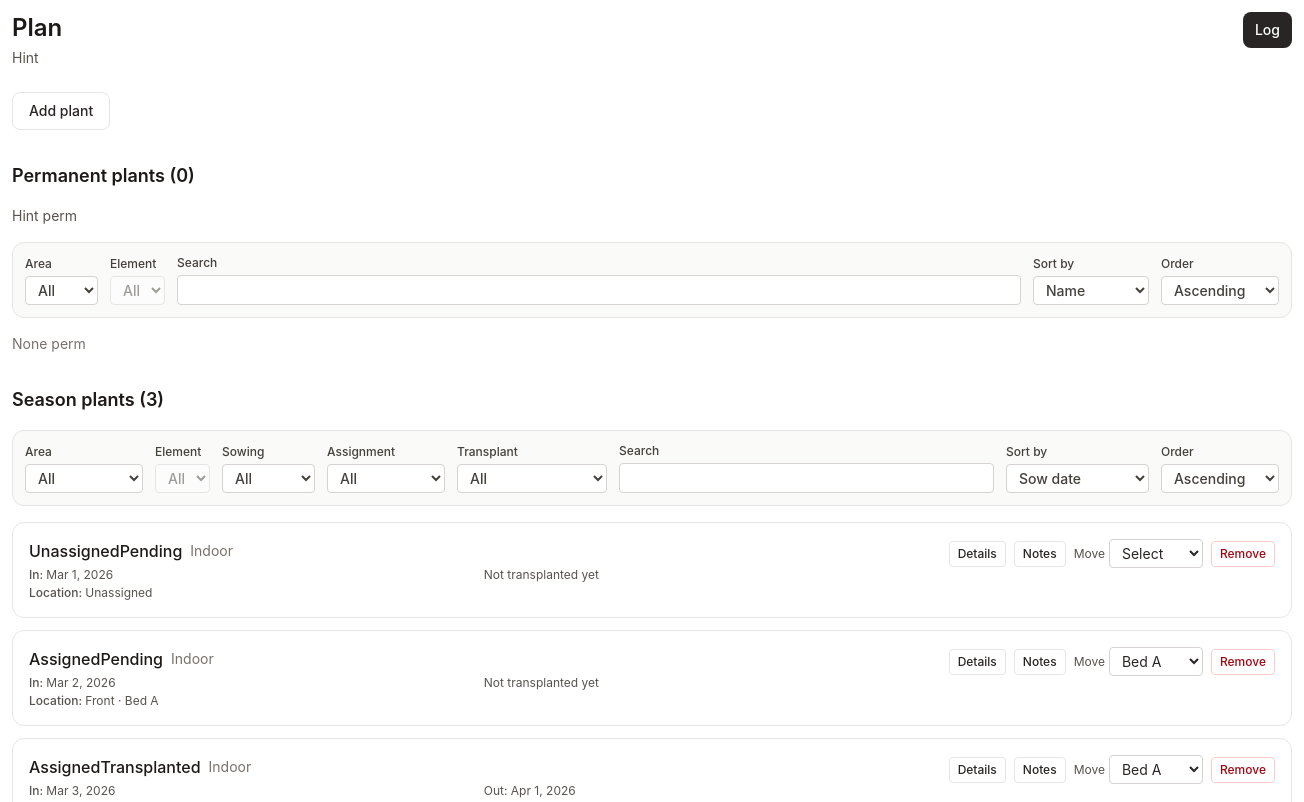
PlantingPlanPage › filters indoor list by assignment and can include transplanted indoor sowings
Expected: the element with test id "season-plant-inventory" shows "Season plants (3)", [12,389,164,410]
Select "Not transplanted" in the dropdown with test id "season-filter-transplant" at (532, 478), box [457,464,607,493]
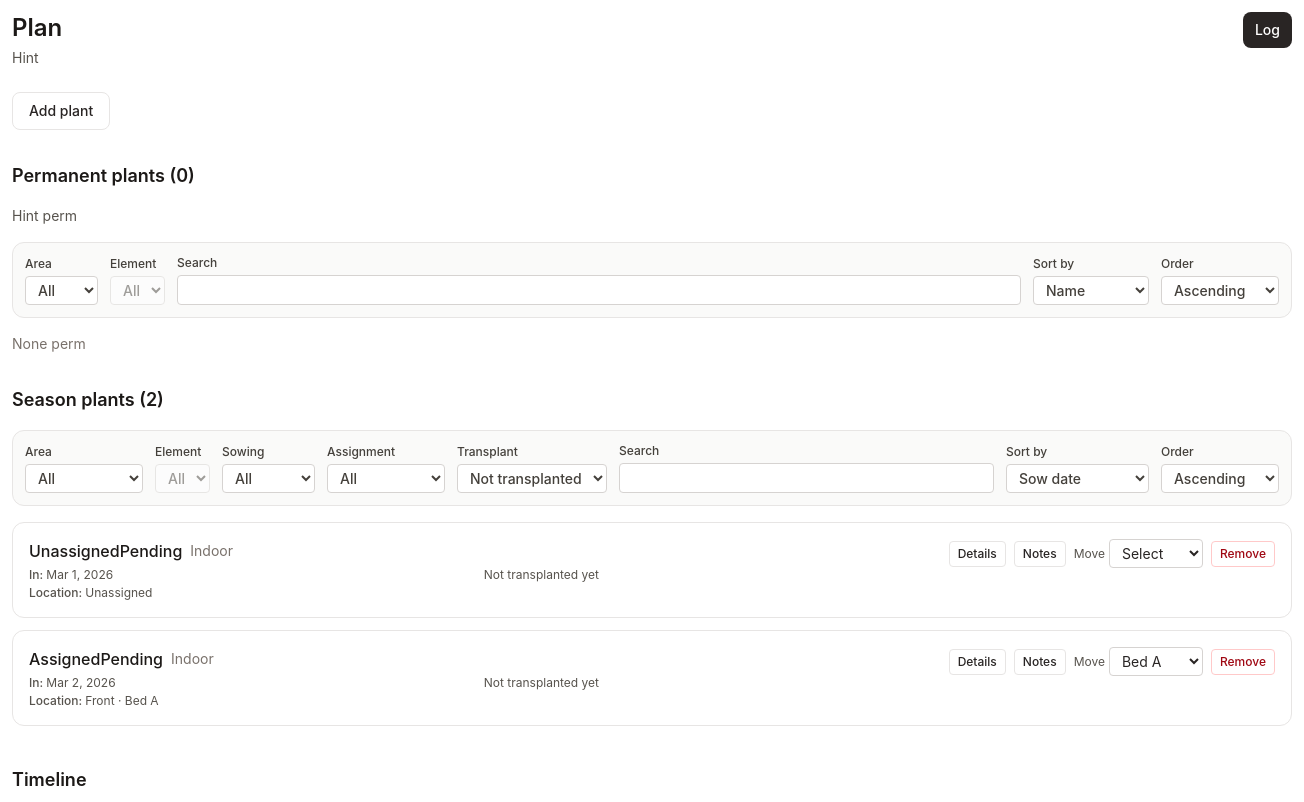
Expected: the element with test id "season-plant-inventory" shows "UnassignedPending", [29,539,182,563]
Expected: the element with test id "season-plant-inventory" shows "Season plants (2)", [12,389,164,410]
Expected: the element with test id "season-plant-inventory" no longer shows "AssignedTransplanted", [12,386,1292,726]
Select "Unassigned" in the dropdown with test id "season-filter-assignment" at (386, 478), box [327,464,445,493]
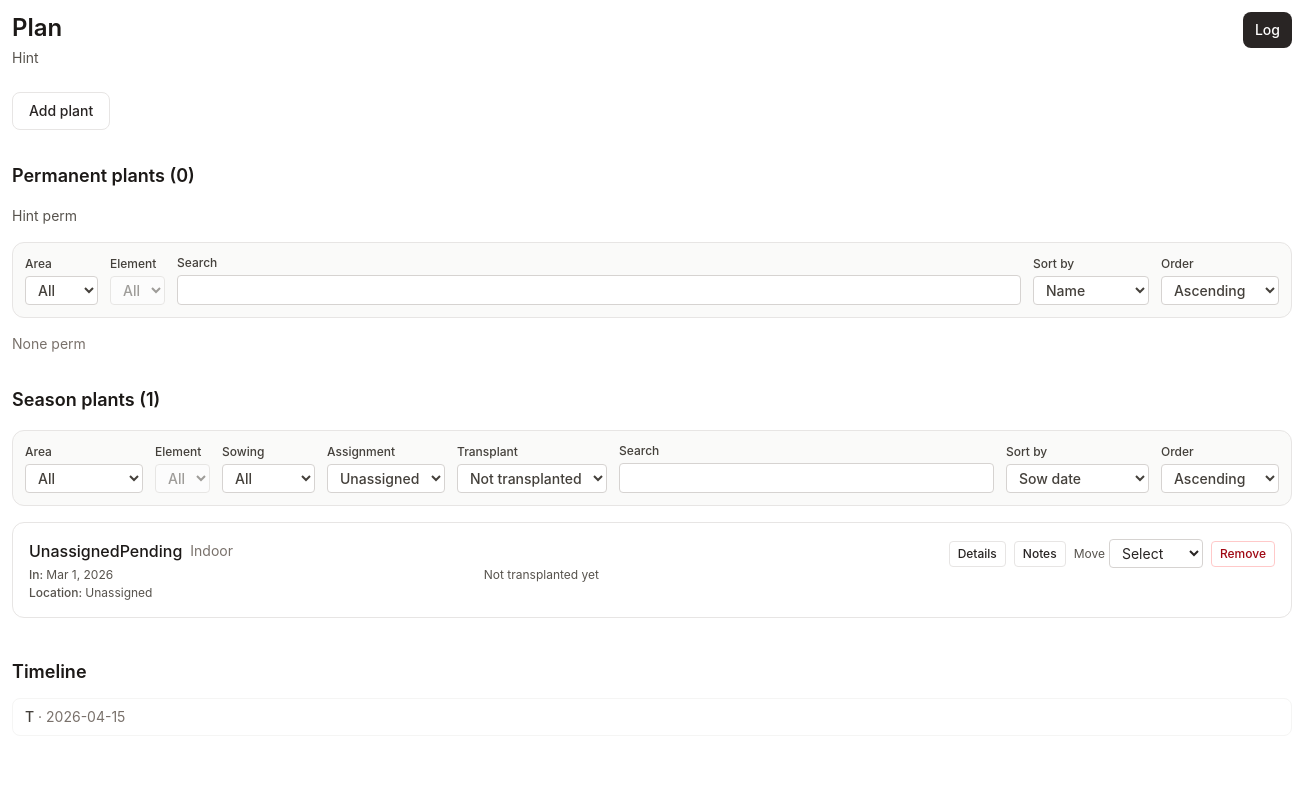
Expected: the element with test id "season-plant-inventory" shows "UnassignedPending", [29,539,182,563]
Expected: the element with test id "season-plant-inventory" shows "Season plants (1)", [12,389,160,410]
Select "Assigned" in the dropdown with test id "season-filter-assignment" at (386, 478), box [327,464,445,493]
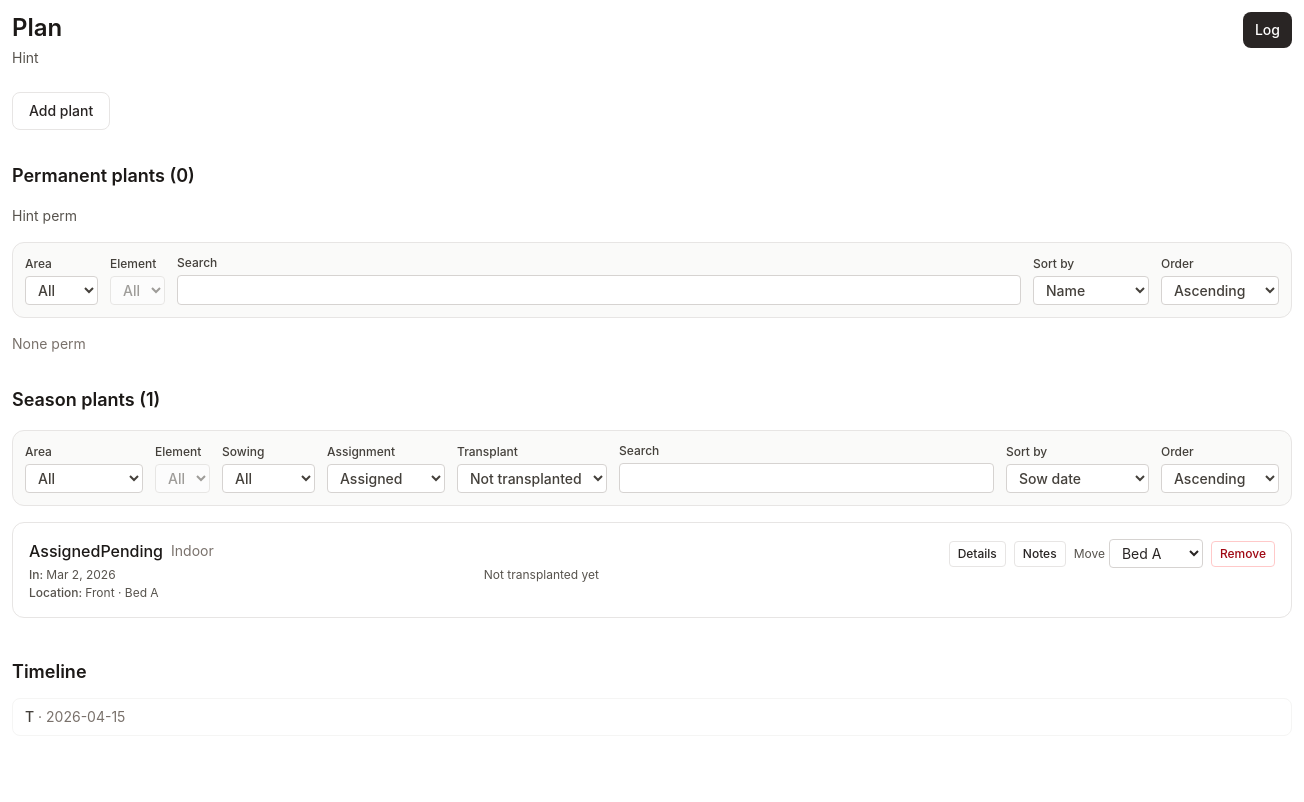
Select "All" in the dropdown with test id "season-filter-transplant" at (532, 478), box [457,464,607,493]
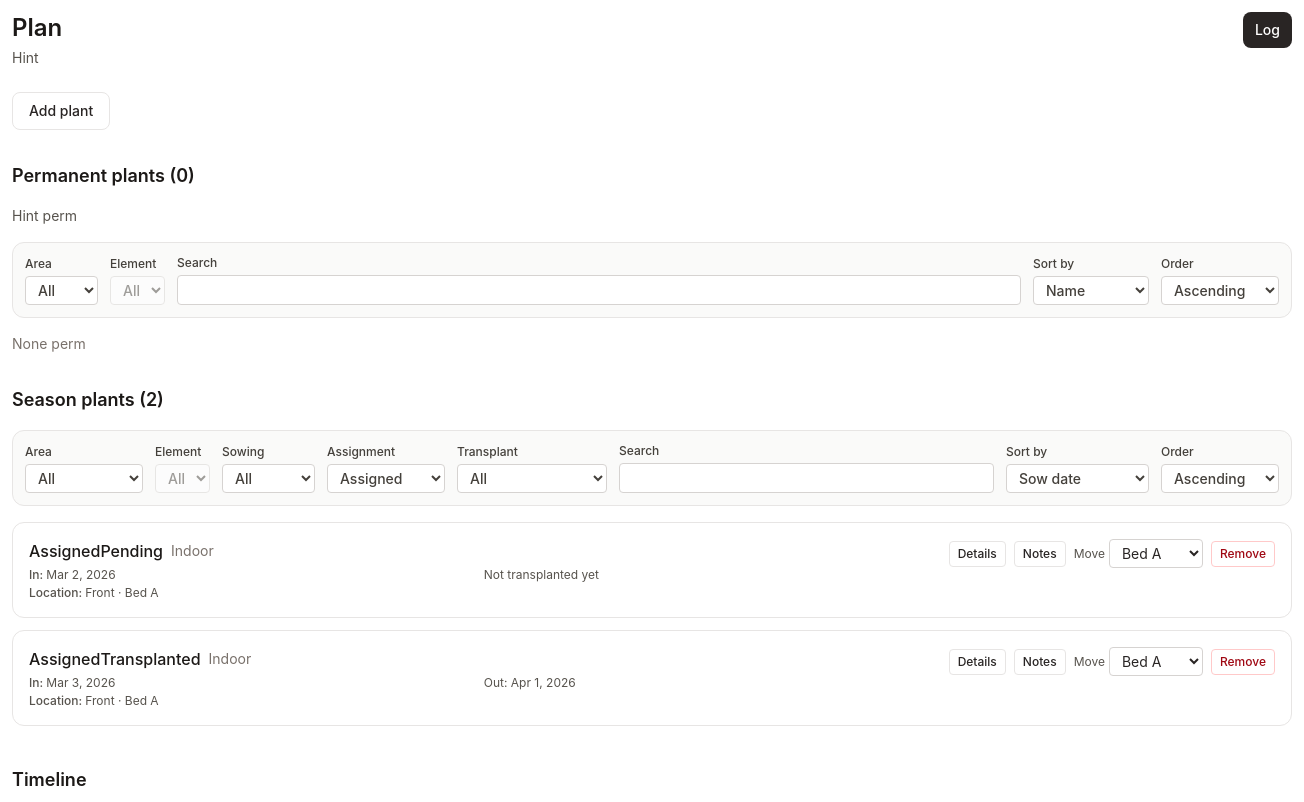
Expected: the element with test id "season-plant-inventory" shows "AssignedPending", [29,539,163,563]
Expected: the element with test id "season-plant-inventory" shows "Season plants (2)", [12,389,164,410]
Expected: the element with test id "season-plant-inventory" shows "AssignedTransplanted", [29,647,201,671]
